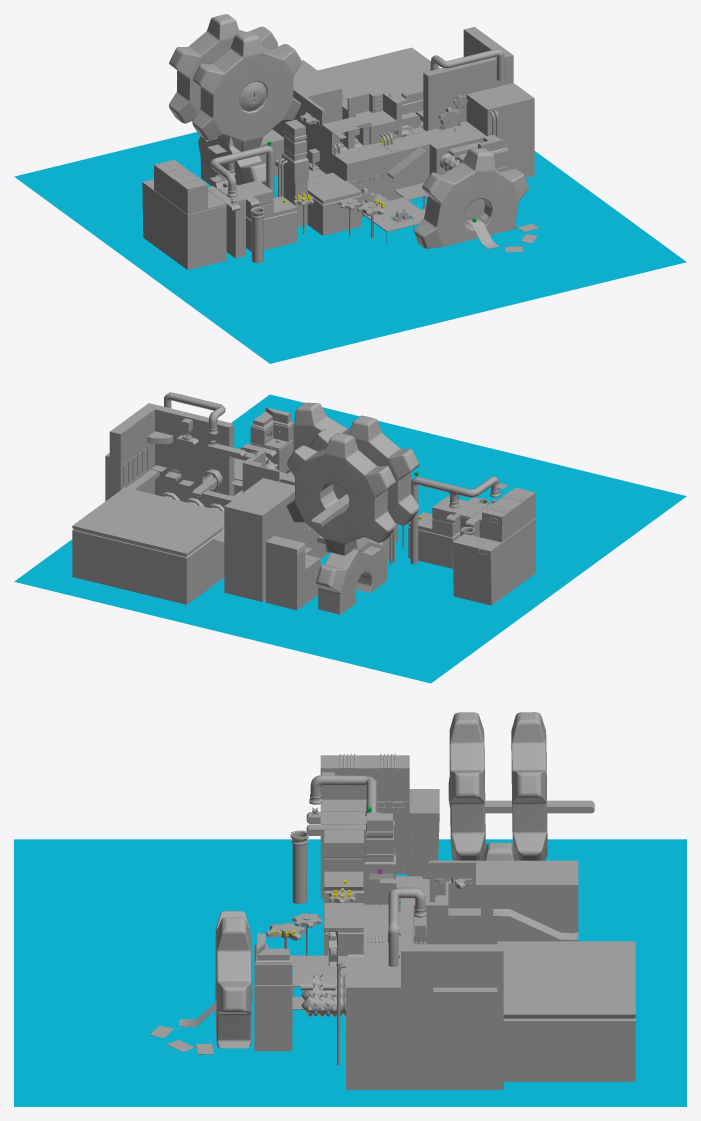
Rendered from factory test.fbx.
3 renders of one model, top to bottom at view 1: azimuth 30°, elevation 25°; view 2: azimuth 150°, elevation 25°; view 3: azimuth 270°, elevation 25°, orthographic. The views are drawn at different scales.
Parts seen in each view (by area): view 1: pPlane1, pCube10, polySurface6, polySurface13, pCube125, pCube65, polySurface7, pCube45, pCube2, pCube6, pCube82, polySurface5 (+7 smaller); view 2: pPlane1, pCube10, pCube65, polySurface7, pCube125, polySurface6, polySurface5, pCube46, pCube45, pCube25, pCube117, polySurface13 (+3 smaller); view 3: pPlane1, pCube10, pCube65, pCube125, polySurface6, polySurface7, polySurface13, pCube25, pCube6, pCube45, pCube2, pCube99 (+8 smaller).
Boxes of the visible parts, bbox=[...] form: pPlane1: bbox=[14, 132, 686, 363]; pCube10: bbox=[272, 27, 534, 200]; polySurface6: bbox=[192, 31, 301, 151]; polySurface13: bbox=[414, 148, 528, 248]; pCube125: bbox=[142, 160, 226, 269]; pCube65: bbox=[318, 47, 440, 128]; polySurface7: bbox=[169, 14, 277, 123]; pCube45: bbox=[238, 180, 297, 251]; pCube2: bbox=[307, 180, 361, 235]; pCube6: bbox=[282, 119, 308, 226]; pCube82: bbox=[347, 89, 401, 144]; polySurface5: bbox=[198, 135, 265, 188]; pPlane1: bbox=[14, 394, 686, 683]; pCube10: bbox=[105, 403, 329, 601]; pCube65: bbox=[72, 487, 224, 604]; polySurface7: bbox=[286, 432, 395, 555]; pCube125: bbox=[452, 487, 535, 605]; polySurface6: bbox=[310, 415, 419, 525]; polySurface5: bbox=[316, 537, 389, 614]; pCube46: bbox=[266, 536, 320, 610]; pCube45: bbox=[408, 496, 467, 568]; pCube25: bbox=[250, 407, 293, 473]; pCube117: bbox=[410, 476, 500, 563]; polySurface13: bbox=[293, 402, 350, 450]; pPlane1: bbox=[14, 839, 686, 1106]; pCube10: bbox=[346, 860, 578, 1089]; pCube65: bbox=[497, 941, 635, 1081]; pCube125: bbox=[320, 755, 439, 878]; polySurface6: bbox=[448, 712, 485, 860]; polySurface7: bbox=[511, 712, 547, 860]; polySurface13: bbox=[215, 911, 252, 1048]; pCube25: bbox=[254, 933, 292, 1051]; pCube6: bbox=[363, 813, 395, 906]; pCube45: bbox=[324, 830, 363, 908]; pCube2: bbox=[324, 903, 363, 966]; pCube99: bbox=[388, 887, 426, 966].
Size of the model in its own units: 79.91 by 39.33 by 84.94.
